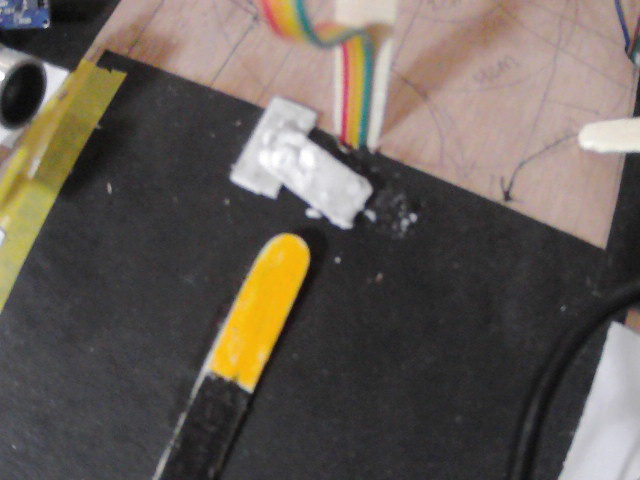black_strip: (166, 378, 246, 480)
mixed_lane: (153, 227, 314, 480)
uno_breadboard: (1, 1, 49, 129)
yellow_strip: (212, 231, 311, 383)
